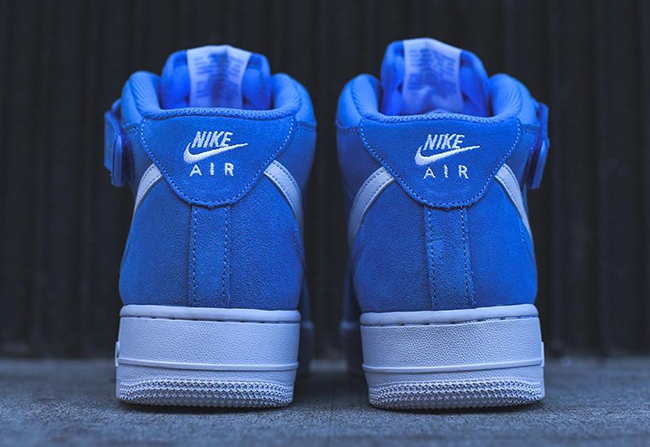Air Force One Blue: (326, 29, 583, 419), (96, 37, 322, 413)
